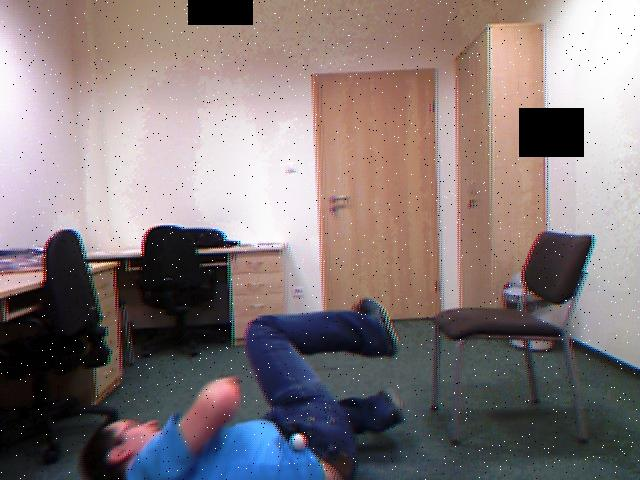fall: (81, 299, 402, 479)
